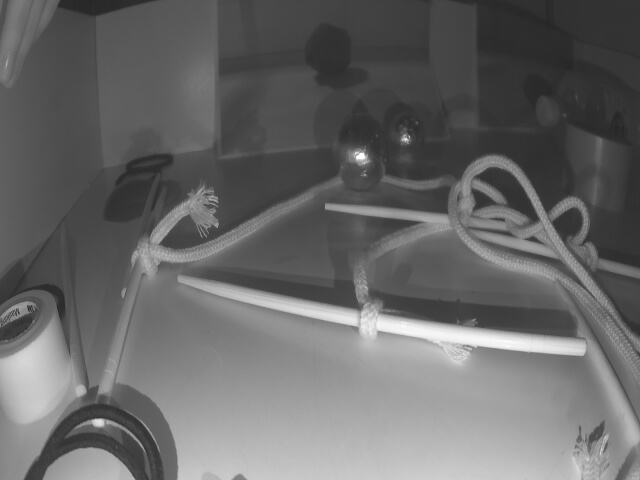Live: (333, 122, 387, 197), (387, 112, 428, 166)
